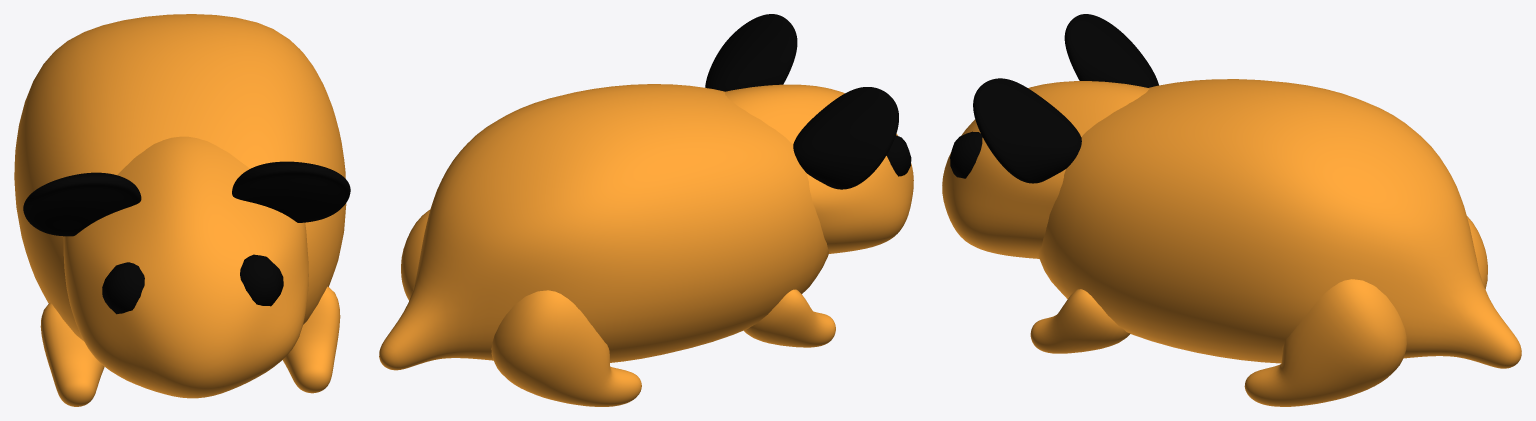
Rendered from hamstrer.glb.
3 renders of one model, left to right at view 1: azimuth 30°, elevation 25°; view 2: azimuth 150°, elevation 25°; view 3: azimuth 270°, elevation 25°, orthographic. The views are drawn at different scales.
Visible parts, largest first — view 1: Hammy; view 2: Hammy; view 3: Hammy.
Part boxes in pixels (left/top/right/bottom): Hammy: left=14, top=14, right=350, bottom=406; Hammy: left=379, top=14, right=913, bottom=406; Hammy: left=942, top=14, right=1521, bottom=406.
Bounding box in the file's own units: 2.88 × 1.81 × 3.74.
